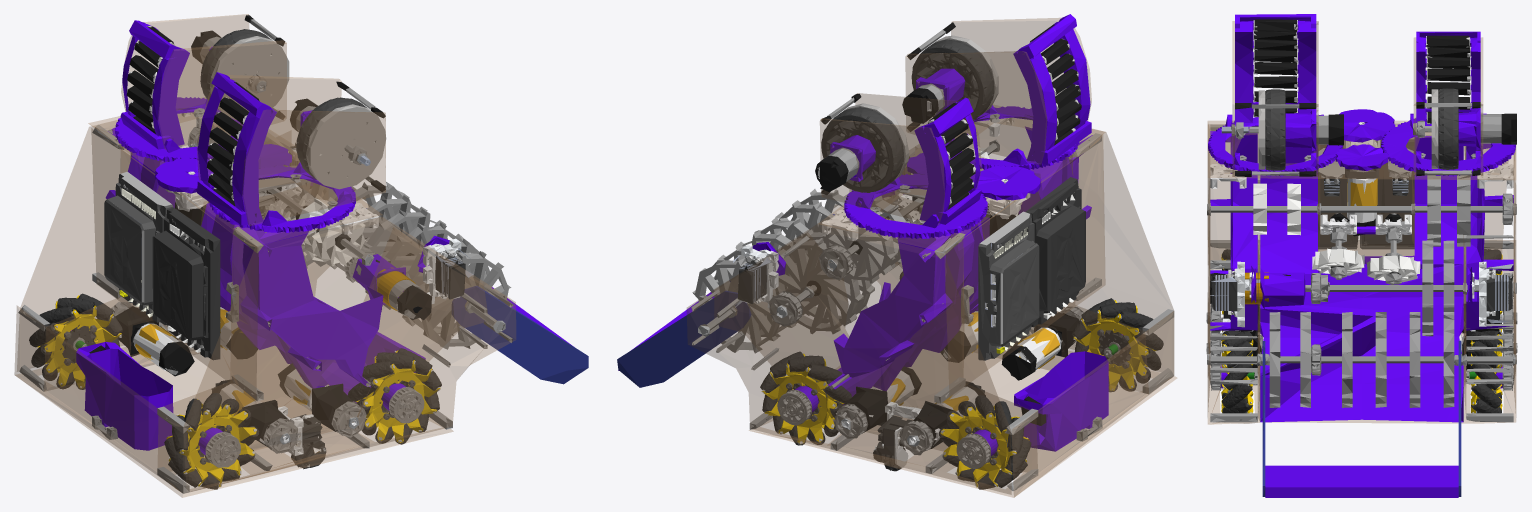
File: silver-bullet-blaster.glb
3 views of the same model, side by side, from view 1: azimuth 30°, elevation 25°; view 2: azimuth 150°, elevation 25°; view 3: azimuth 270°, elevation 25° (orthographic). The views are drawn at different scales.
Visible parts, largest first — view 1: body, turret2, turret, intake_front, wheel_br, wheel_fr, flywheel2, arm, wheel_bl, flywheel, intake_back; view 2: body, turret2, turret, wheel_bl, wheel_fl, intake_front, arm, wheel_br, intake_back, flywheel, flywheel2; view 3: body, turret2, turret, arm, intake_front, wheel_fl, flywheel2, wheel_fr, flywheel, intake_back.
Part boxes in pixels (x1,y1,x2,y2): body: (14, 98, 515, 497); turret2: (196, 72, 385, 232); turret: (115, 14, 286, 162); intake_front: (332, 182, 511, 349); wheel_br: (164, 393, 258, 489); wheel_fr: (348, 348, 441, 444); flywheel2: (296, 97, 386, 189); arm: (366, 208, 588, 384); wheel_bl: (29, 293, 122, 389); flywheel: (200, 29, 289, 119); intake_back: (263, 166, 337, 268); body: (687, 113, 1176, 497); turret2: (902, 14, 1091, 169); turret: (815, 93, 987, 238); wheel_bl: (939, 395, 1031, 489); wheel_fl: (760, 351, 851, 445); intake_front: (692, 189, 845, 353); arm: (617, 214, 834, 387); wheel_br: (1072, 298, 1163, 391); intake_back: (775, 229, 874, 333); flywheel: (821, 103, 909, 192); flywheel2: (911, 35, 998, 121); body: (1206, 109, 1517, 424); turret2: (1208, 14, 1343, 176); turret: (1381, 31, 1516, 176); arm: (1262, 340, 1461, 497); intake_front: (1269, 312, 1454, 407); wheel_fl: (1466, 330, 1513, 413); flywheel2: (1258, 89, 1285, 170); wheel_fr: (1210, 330, 1257, 413); flywheel: (1431, 88, 1458, 169); intake_back: (1422, 240, 1454, 336).
Size of the model in its own units: 0.5461 by 0.4502 by 0.367.
